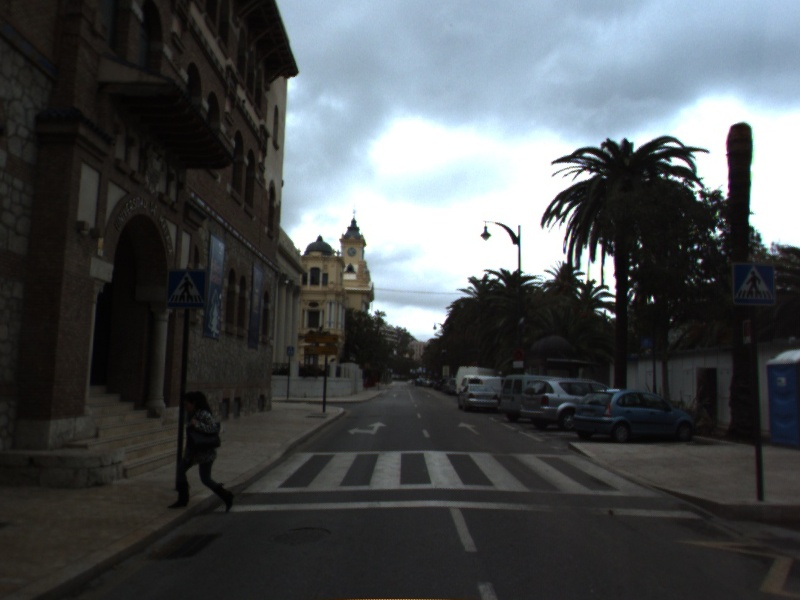STRAIGHT: (456, 420, 483, 437)
STRAIGHT_LEFT: (346, 420, 389, 437)
